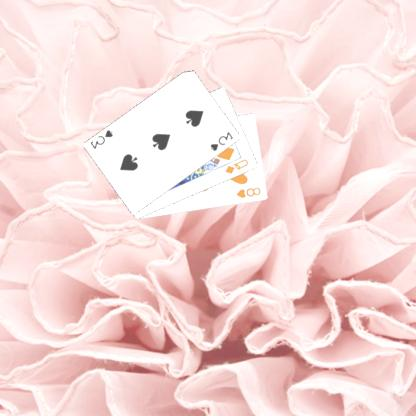3S: (209, 129, 236, 152), (90, 127, 116, 150)
8H: (235, 184, 264, 200)
QD: (224, 157, 252, 175)
